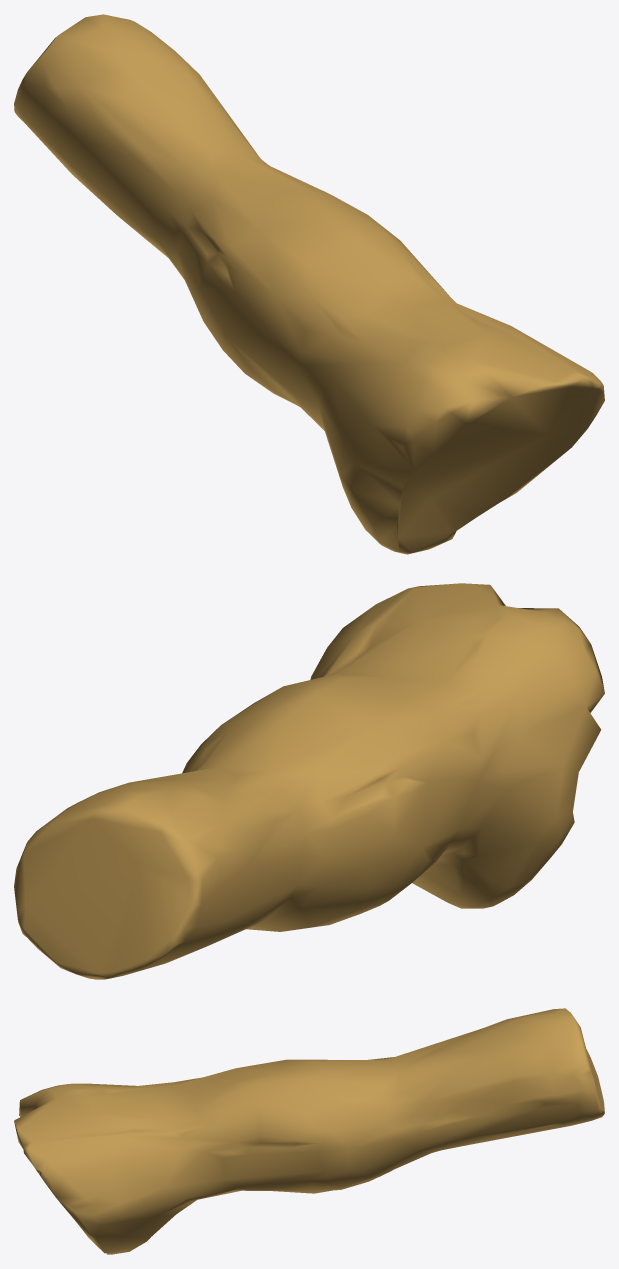
The picture shows the model from 3 angles, top to bottom: view 1: azimuth 30°, elevation 25°; view 2: azimuth 150°, elevation 25°; view 3: azimuth 270°, elevation 25°; orthographic projection. The views are drawn at different scales.
Visible parts, largest first — view 1: 左侧甲状舌骨外侧韧带; view 2: 左侧甲状舌骨外侧韧带; view 3: 左侧甲状舌骨外侧韧带.
Boxes of the visible parts, bbox=[...] form: 左侧甲状舌骨外侧韧带: bbox=[14, 14, 604, 554]; 左侧甲状舌骨外侧韧带: bbox=[14, 583, 604, 979]; 左侧甲状舌骨外侧韧带: bbox=[14, 1008, 604, 1254].
Size of the model in its own units: 0.00533 by 0.00665 by 0.0156.
